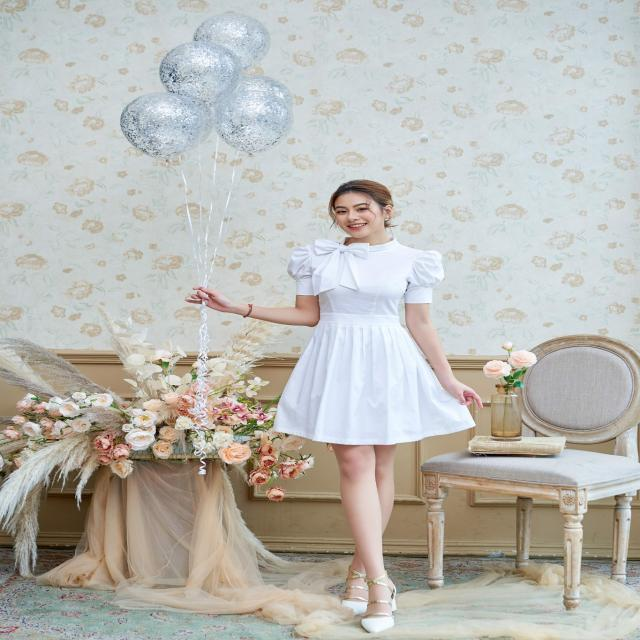clothes: (274, 241, 479, 455)
